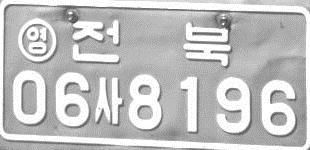0: (12, 68, 47, 125)
1: (172, 75, 210, 134)
6: (260, 79, 297, 137), (54, 71, 90, 128)
8: (127, 72, 162, 130)
9: (214, 76, 251, 134)
사: (93, 77, 123, 126)
영: (16, 16, 58, 63)
전북_D: (70, 18, 231, 67)
